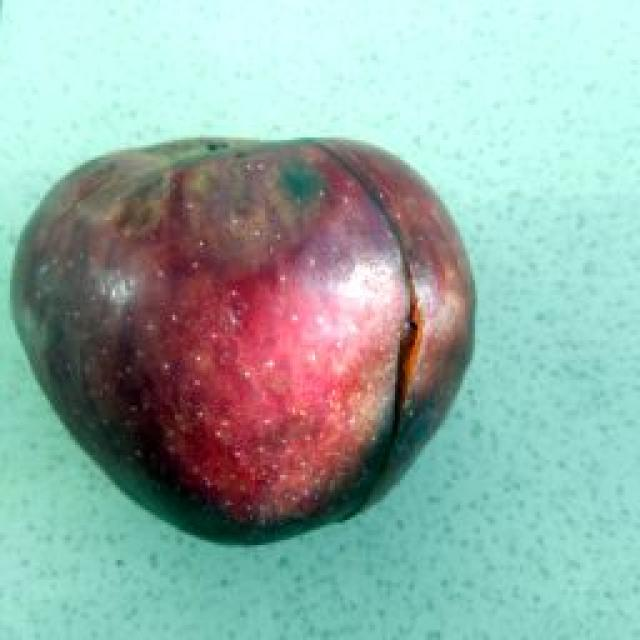Bad_Apple: (12, 138, 474, 536)
